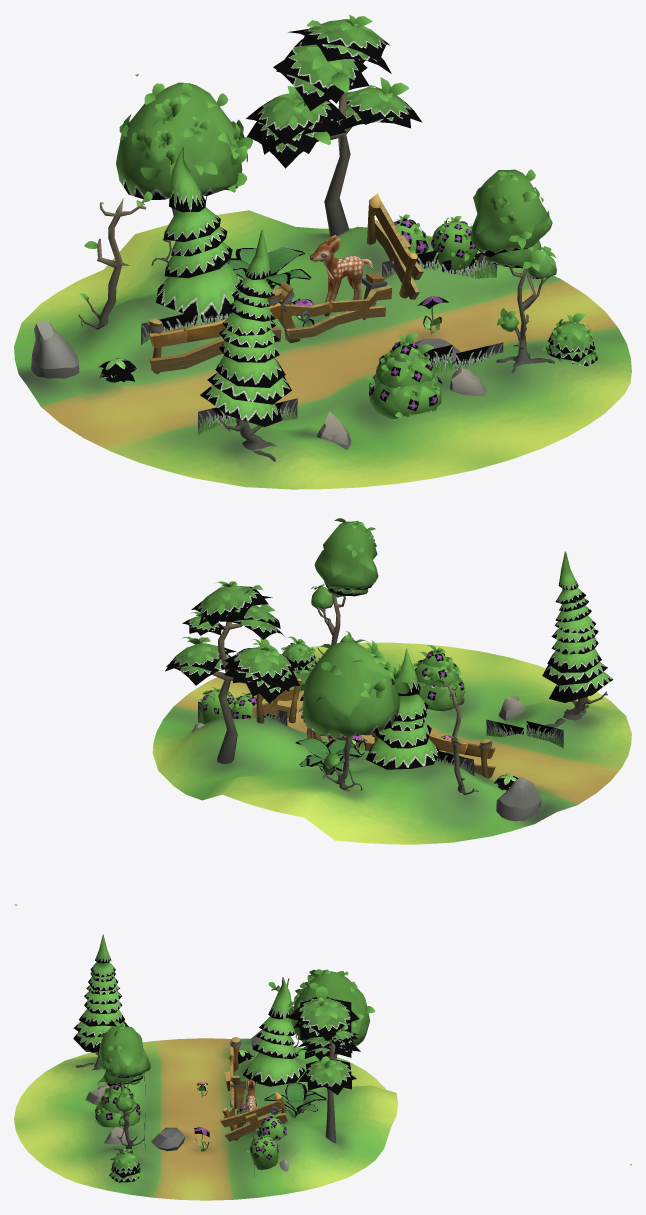
File: forest_diorama.gltf
3 renders of one model, top to bottom at view 1: azimuth 30°, elevation 25°; view 2: azimuth 150°, elevation 25°; view 3: azimuth 270°, elevation 25°, orthographic. The views are drawn at different scales.
Parts seen in each view (by area): view 1: Object_2; view 2: Object_2; view 3: Object_2.
Boxes of the visible parts, left/top/right/bottom form: Object_2: left=14, top=15, right=631, bottom=489; Object_2: left=14, top=518, right=631, bottom=905; Object_2: left=14, top=934, right=631, bottom=1200.
Bounding box in the file's own units: 65.11 × 30.74 × 105.
1 material, 1 textured.
